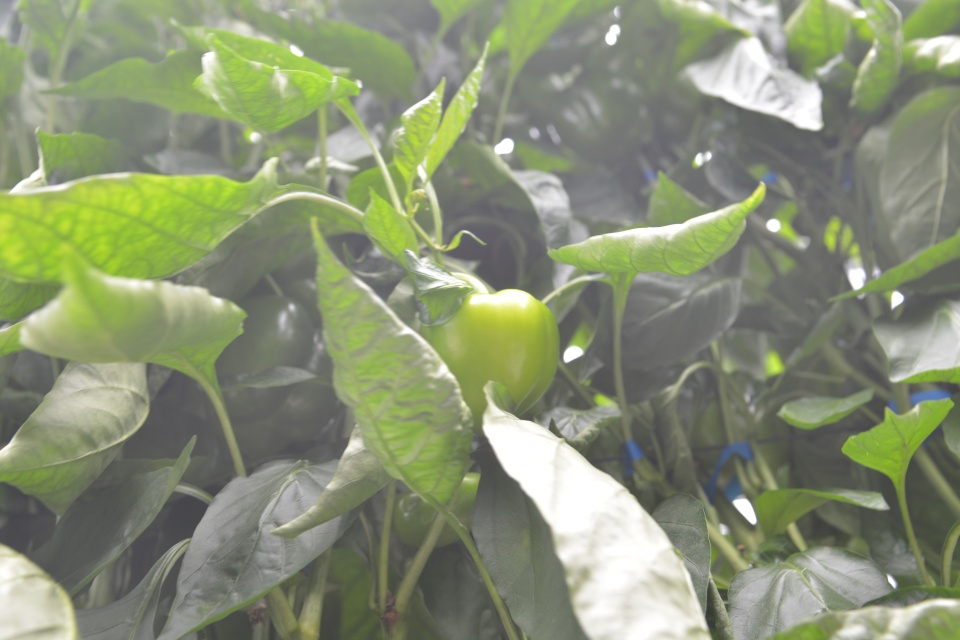fruit: (198, 293, 338, 457), (416, 286, 560, 433), (392, 469, 480, 551)
